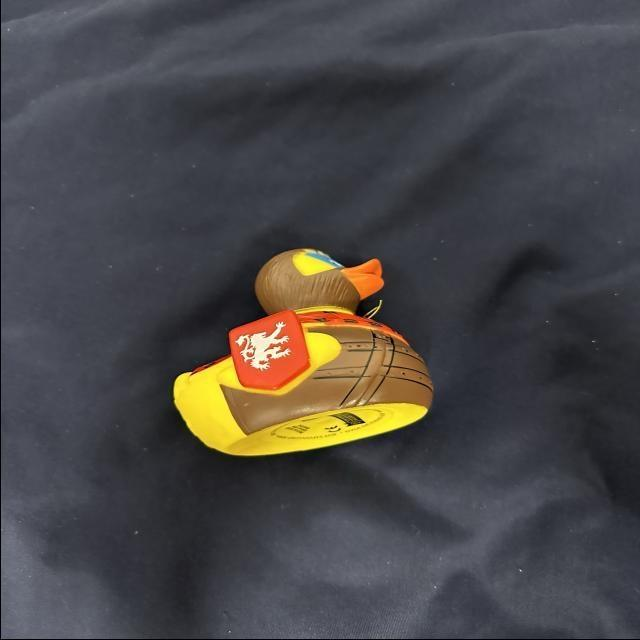rubber-duck: (173, 248, 431, 454)
